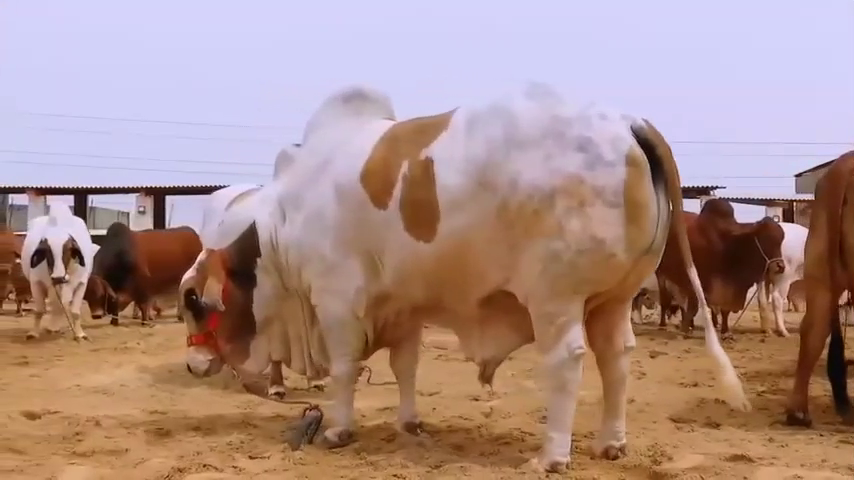bo: (165, 75, 768, 478), (763, 126, 854, 429), (636, 181, 788, 338), (62, 204, 213, 338), (19, 193, 98, 355), (754, 214, 854, 339)
